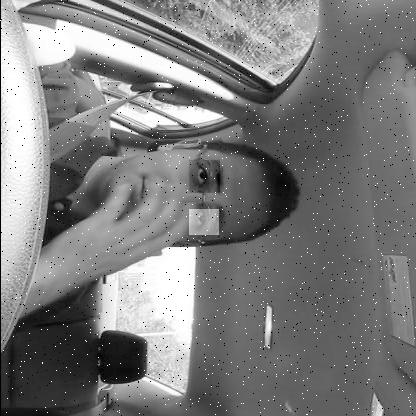seatbelt: (0, 81, 315, 251)
